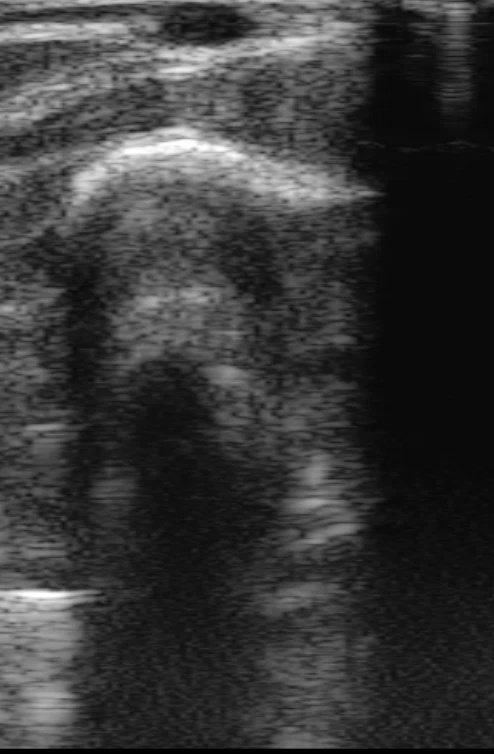veins_detect: (152, 2, 262, 54)
veins_seg: (156, 1, 257, 47)
